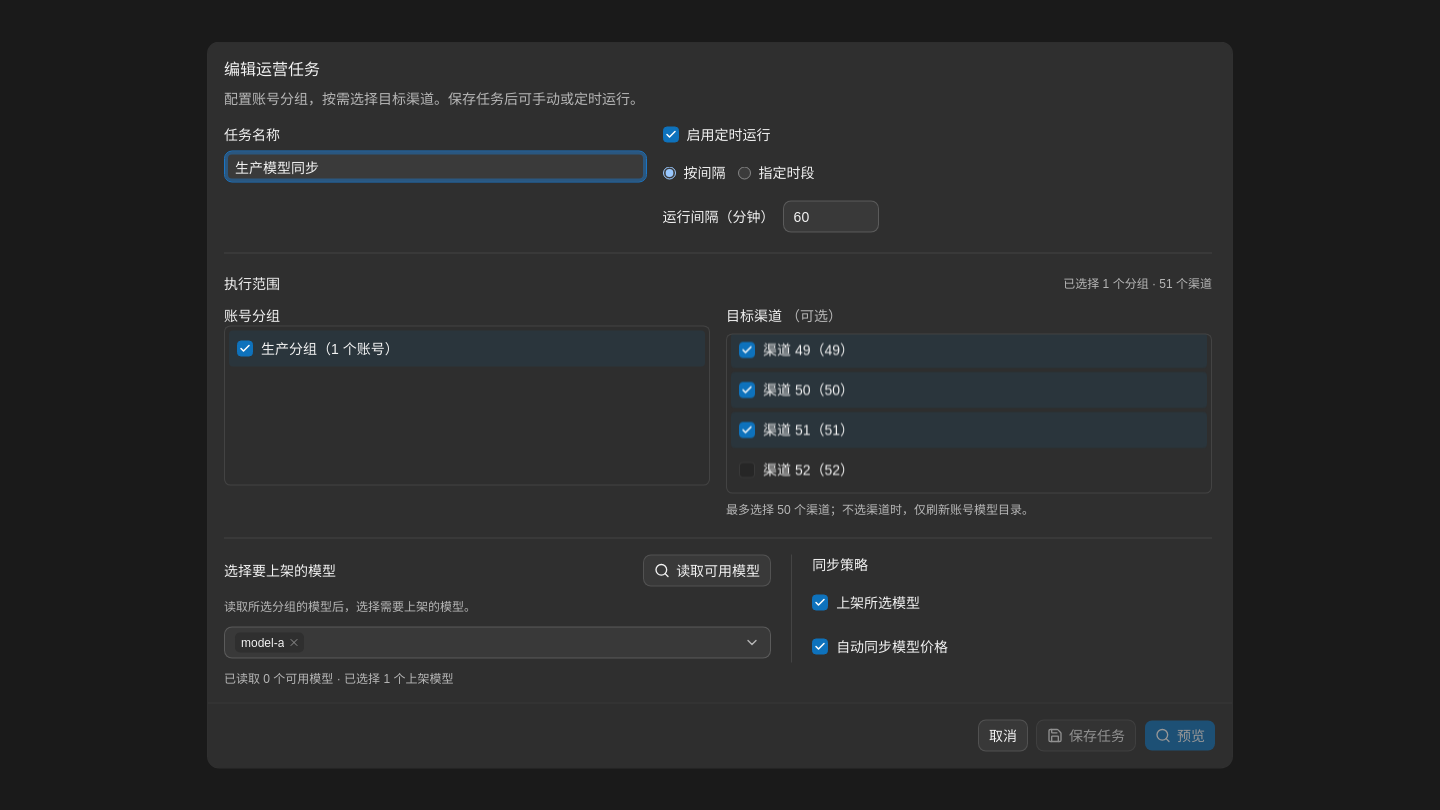
已有 51 个已选渠道时限制新增，超限必须移除后才能提交
This screenshot has width=1440, height=810.
(page scrolled)
Check: the checkbox named "生产分组" next to "生产分组" is shown, box [237,340,253,356]
Check: the button "保存任务" is disabled, box [1036,720,1136,752]
What coordinates should you click on to do the following:
click the checkbox named "渠道 51（51）" next to "渠道 51"
I would click on:
 (747, 430)
Its box is [739,422,755,438].
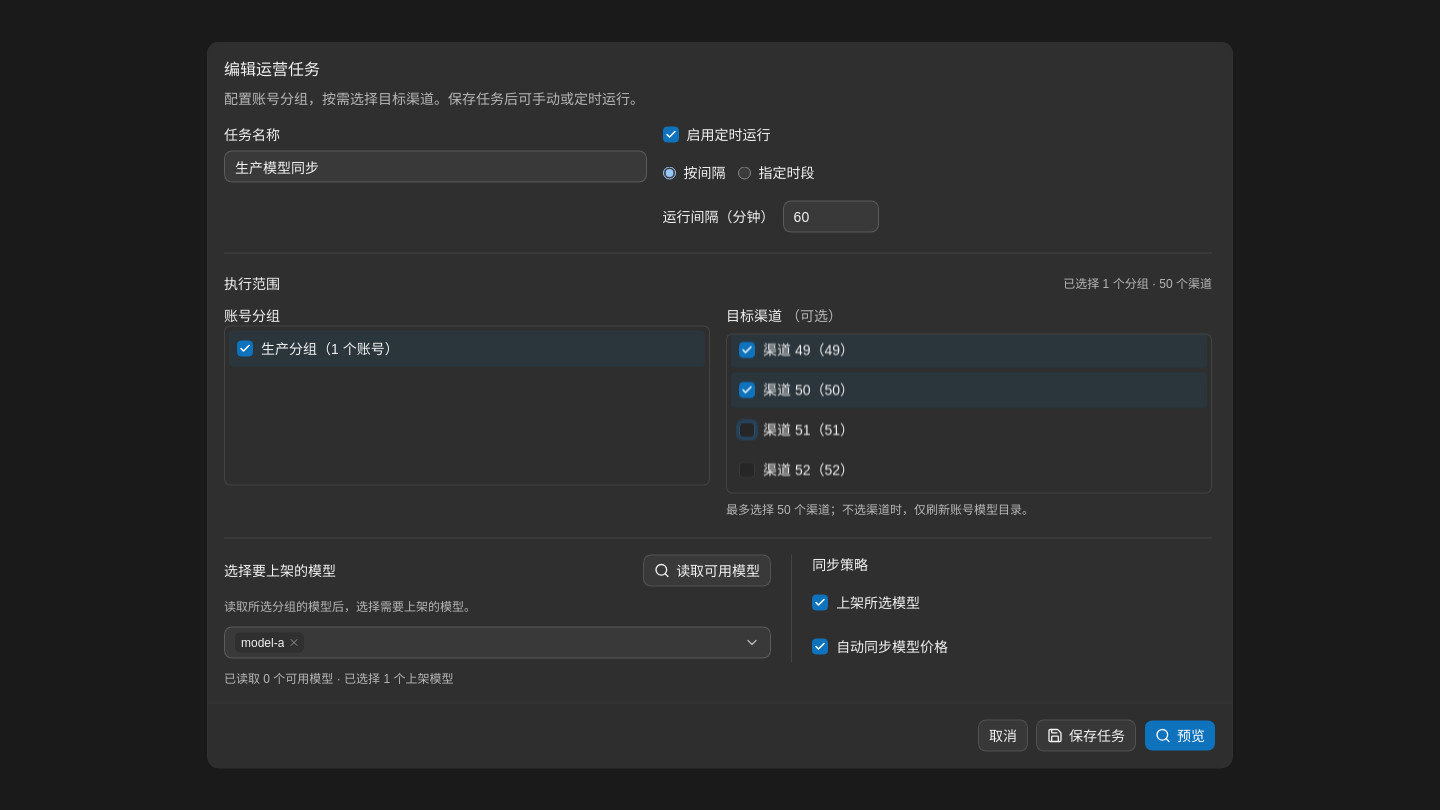
Check: the button "保存任务" is enabled, box [1036,720,1136,752]
